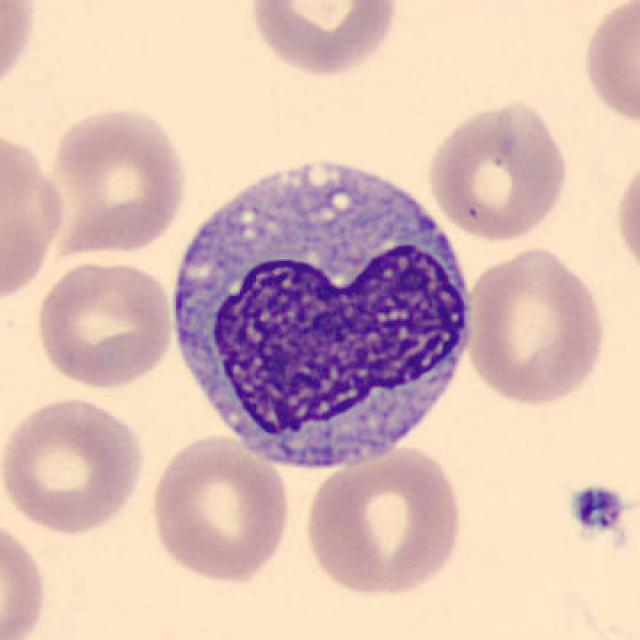Monocyte: (157, 134, 487, 483)
Platelets: (567, 484, 631, 540)
RBC: (298, 439, 468, 601), (460, 243, 610, 408), (44, 100, 190, 261), (144, 430, 293, 586), (423, 95, 573, 244), (0, 391, 149, 537), (30, 258, 178, 392), (0, 122, 68, 310), (243, 0, 401, 79), (579, 0, 638, 130), (0, 508, 52, 640), (0, 0, 39, 108), (611, 148, 640, 285)
